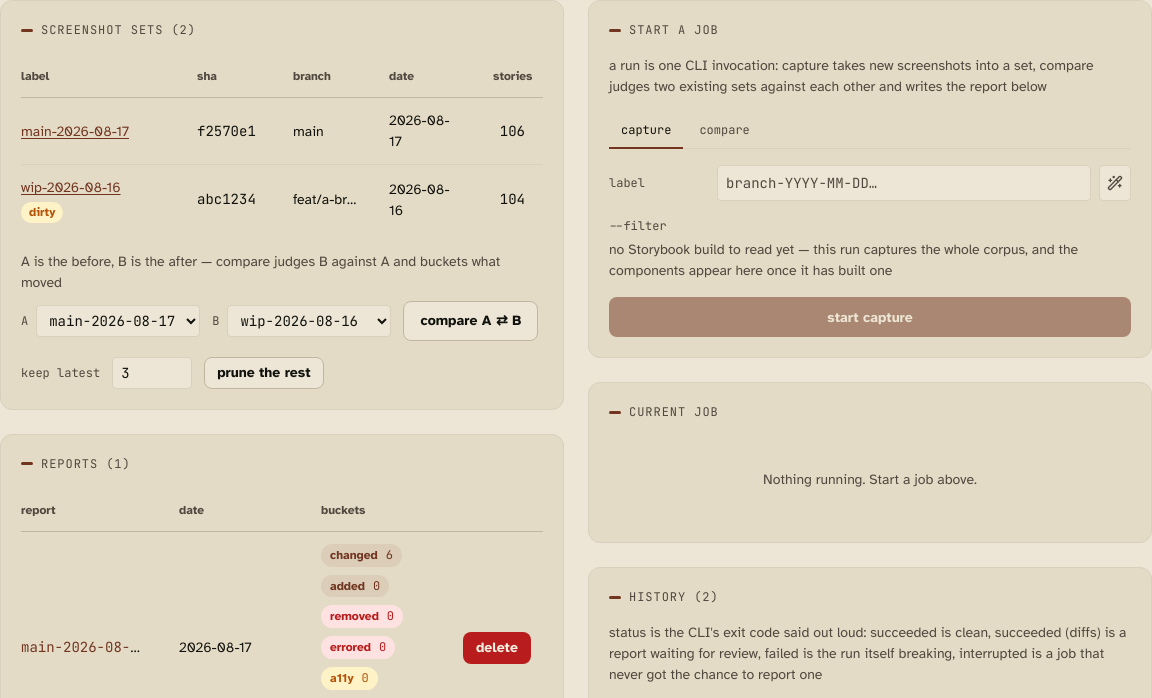
Test: the reports panel › opens a confirmation naming the report rather than deleting on the click
Click the button "delete" at (497, 648), box top-left (463, 632), bottom-right (531, 664)
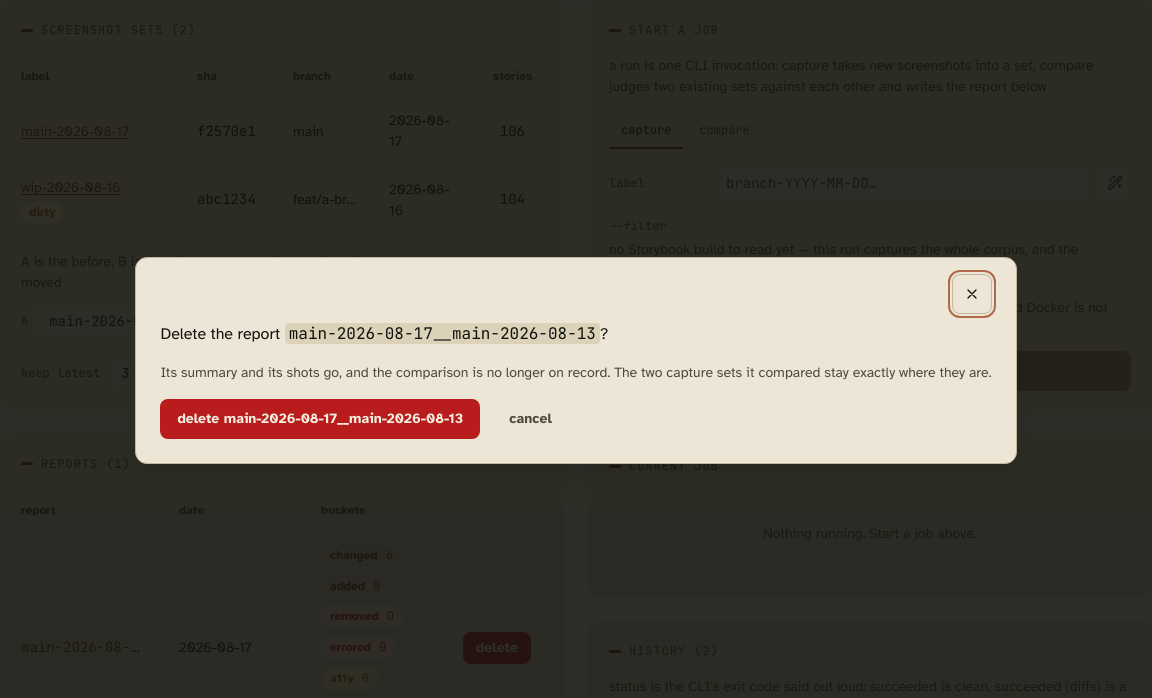
Check: the dialog named "Confirm deletion" shows "main-2026-08-17__main-2026-08-13", box top-left (289, 322), bottom-right (596, 344)
Check: the dialog named "Confirm deletion" shows "capture sets it compared stay", box top-left (160, 364), bottom-right (992, 380)
